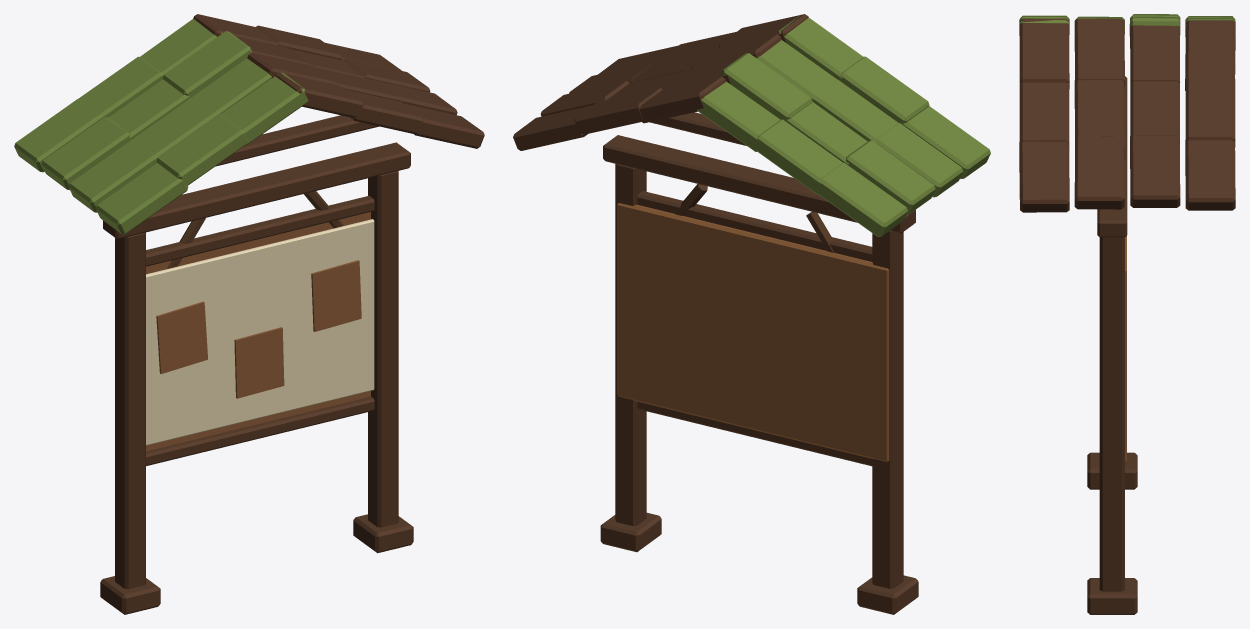
Rendered from prop_trail_kiosk_a.glb.
3 renders of one model, left to right at view 1: azimuth 30°, elevation 25°; view 2: azimuth 150°, elevation 25°; view 3: azimuth 270°, elevation 25°, orthographic.
Parts seen in each view (by area): view 1: kiosk_board_frame_0, kiosk_shingle_left_00_00, kiosk_board_face, kiosk_board_back; view 2: kiosk_board_back, kiosk_board_frame_0, kiosk_shingle_left_00_00; view 3: kiosk_board_frame_0, kiosk_shingle_left_00_00, kiosk_board_back.
Part boxes in pixels (x1,y1,x2,y2): kiosk_board_frame_0: (100, 14, 484, 614); kiosk_shingle_left_00_00: (14, 18, 308, 234); kiosk_board_face: (146, 219, 374, 445); kiosk_board_back: (146, 212, 370, 451); kiosk_board_back: (617, 203, 889, 462); kiosk_board_frame_0: (513, 14, 918, 614); kiosk_shingle_left_00_00: (697, 15, 990, 236); kiosk_board_frame_0: (1019, 18, 1235, 614); kiosk_shingle_left_00_00: (1019, 14, 1235, 36); kiosk_board_back: (1125, 236, 1126, 462).
Bounding box in the file's own units: 1.72 × 2.31 × 0.8614.
